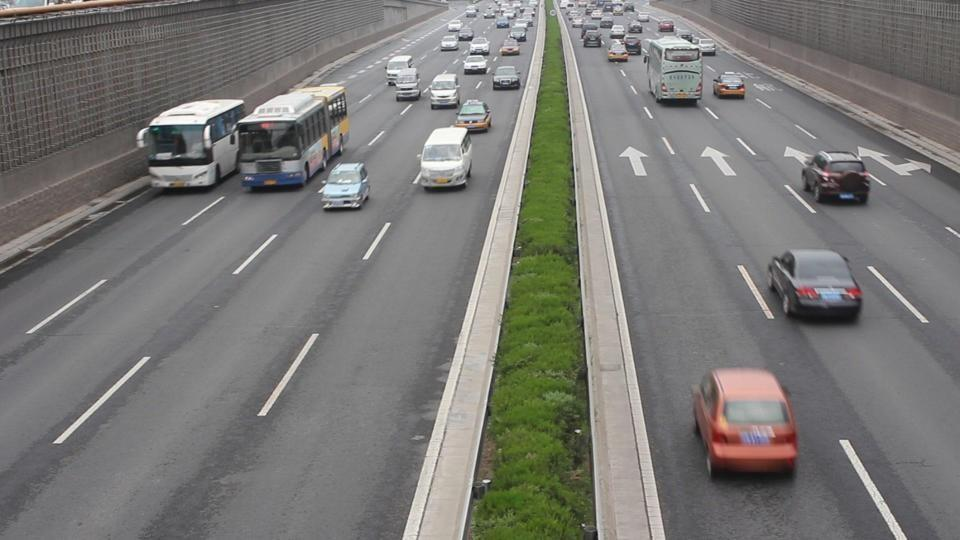car: (691, 366, 799, 478), (765, 247, 864, 322), (800, 149, 872, 205), (414, 126, 474, 190), (318, 161, 372, 211), (385, 54, 418, 93), (454, 100, 494, 132), (427, 75, 460, 110), (713, 71, 747, 98), (492, 65, 522, 90), (690, 36, 718, 57), (462, 55, 489, 74), (607, 42, 630, 62), (468, 37, 490, 56), (497, 42, 520, 57), (624, 36, 642, 54), (440, 34, 459, 51), (510, 24, 527, 42)
